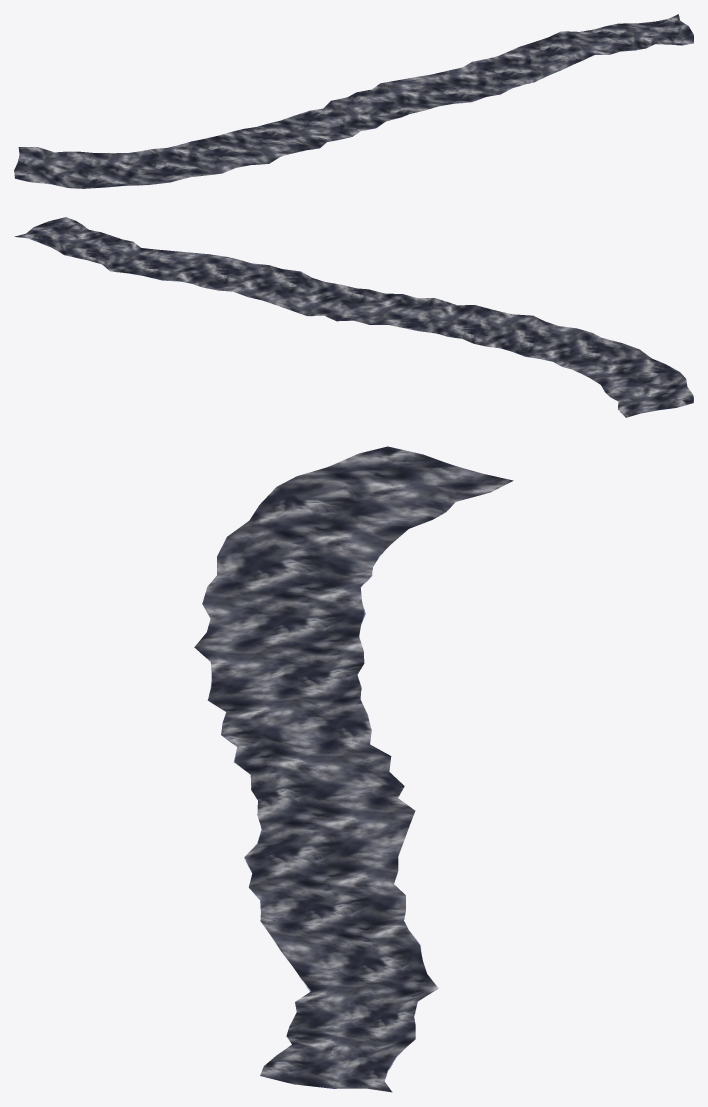
The model's file is EKH_ENTRANCE_PS_EN_WATER_84746.fbx.
3 views of the same model, one above another, from view 1: azimuth 30°, elevation 25°; view 2: azimuth 150°, elevation 25°; view 3: azimuth 270°, elevation 25° (orthographic). The views are drawn at different scales.
Visible parts, largest first — view 1: EKH_ENTRANCE_PS_EN_WATER_84746; view 2: EKH_ENTRANCE_PS_EN_WATER_84746; view 3: EKH_ENTRANCE_PS_EN_WATER_84746.
Boxes of the visible parts, box(x1,y1,x2,y2) form: EKH_ENTRANCE_PS_EN_WATER_84746: box(14, 14, 693, 188); EKH_ENTRANCE_PS_EN_WATER_84746: box(14, 217, 693, 417); EKH_ENTRANCE_PS_EN_WATER_84746: box(194, 446, 513, 1092).
Size of the model in its own units: 814158 by 3986 by 169382.
Materials: 2 (2 with a texture image).
